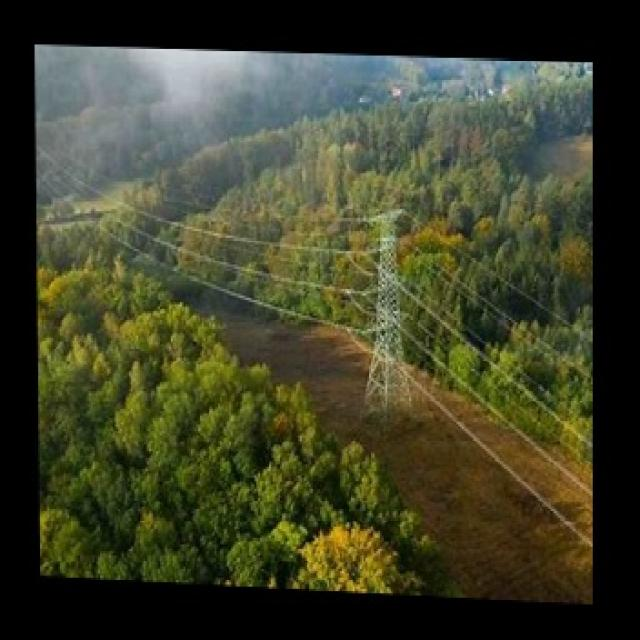utility poles: (339, 200, 440, 427)
